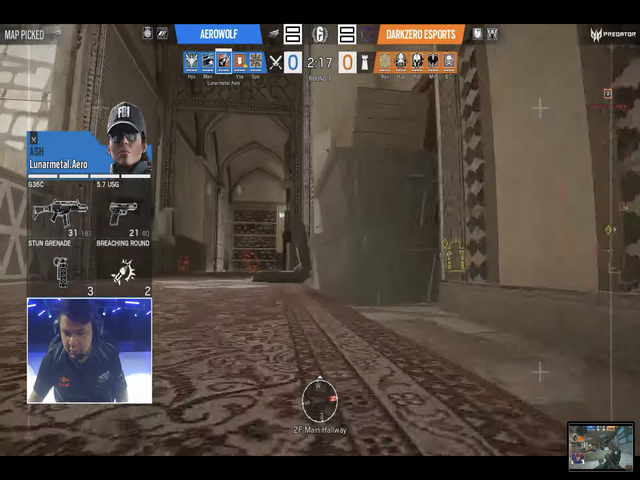0_blue: (284, 50, 302, 73)
